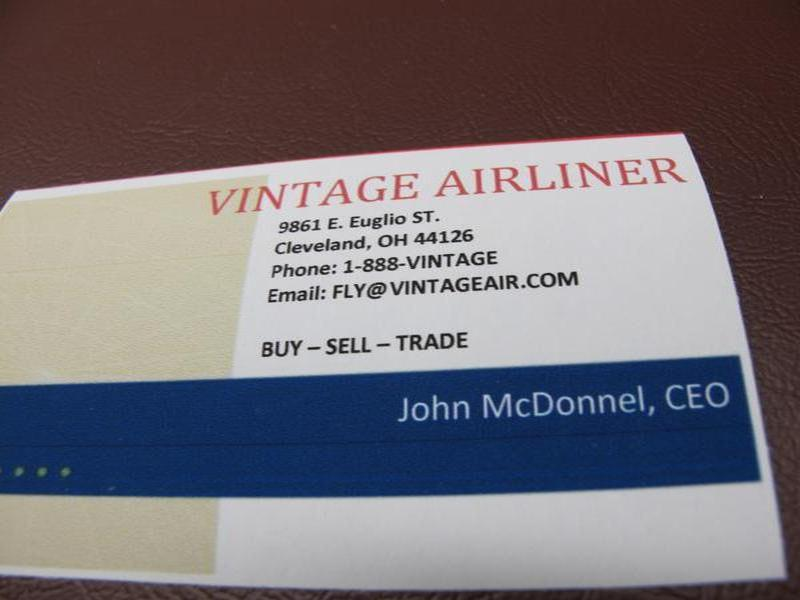card: (4, 144, 791, 591)
